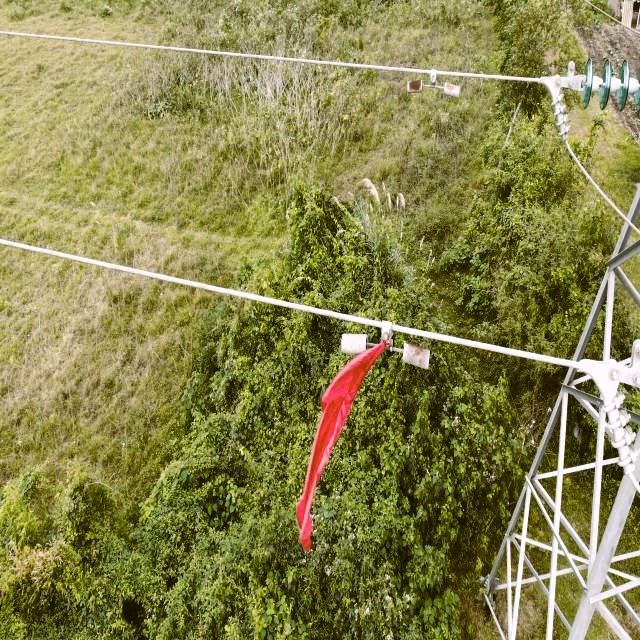wire foreign body: (289, 305, 391, 552)
